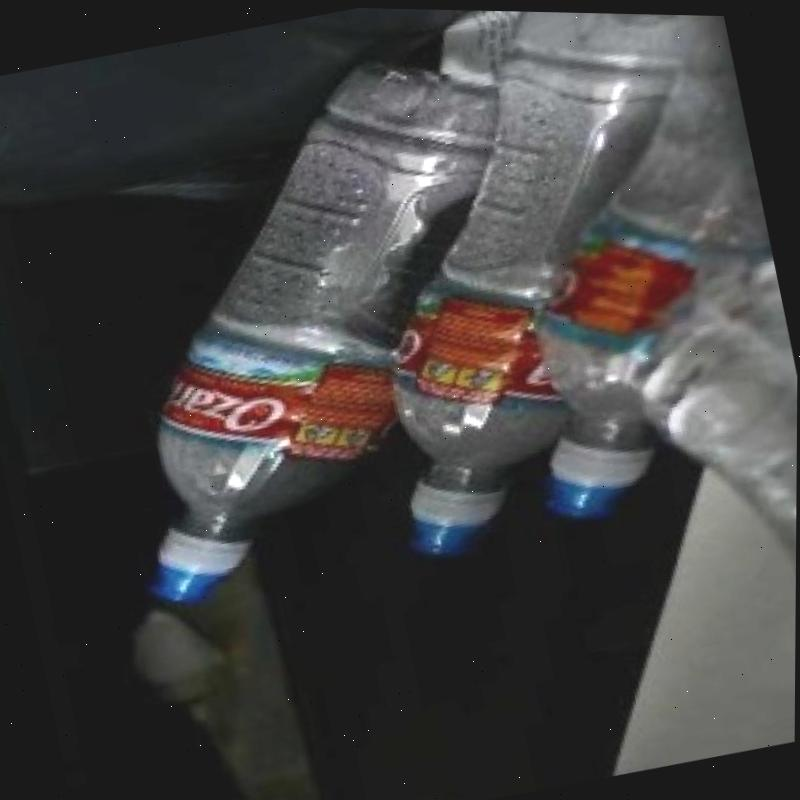botella: (59, 32, 601, 620), (309, 5, 778, 561), (467, 12, 800, 524), (609, 271, 798, 692)
